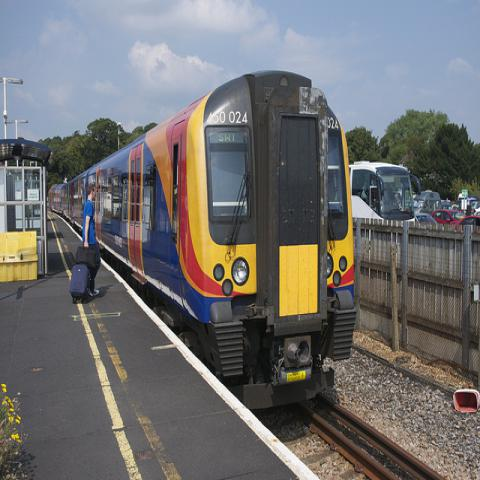bus: (350, 161, 421, 222)
car: (413, 191, 441, 214), (432, 210, 463, 224), (455, 216, 480, 233), (414, 213, 438, 230), (442, 202, 460, 209), (470, 196, 480, 208), (472, 203, 480, 217), (456, 200, 461, 210)
